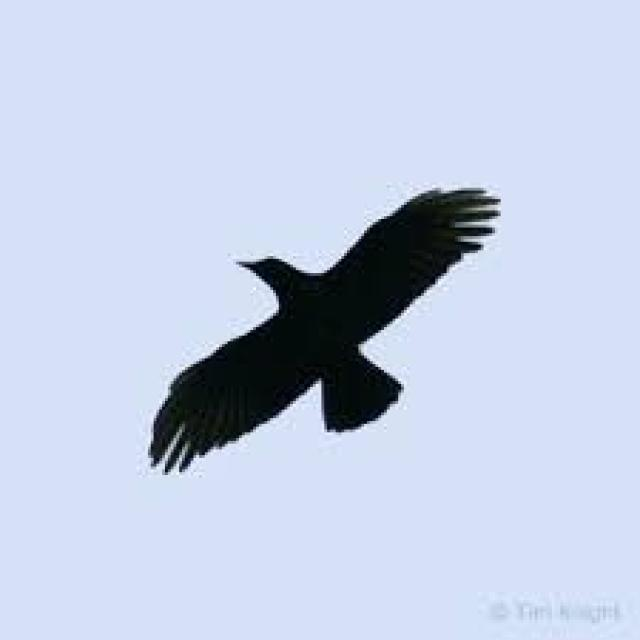crow: (119, 158, 474, 459)
